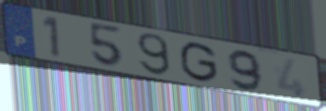1: (41, 15, 62, 61)
4: (274, 57, 310, 100)
5: (87, 20, 125, 70)
9: (134, 32, 173, 78), (225, 49, 266, 92)
G: (179, 41, 221, 85)
